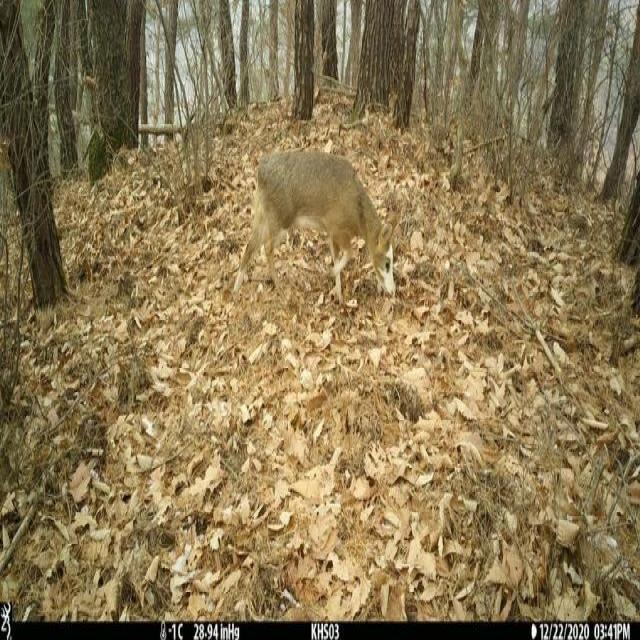deer: (224, 140, 406, 336)
